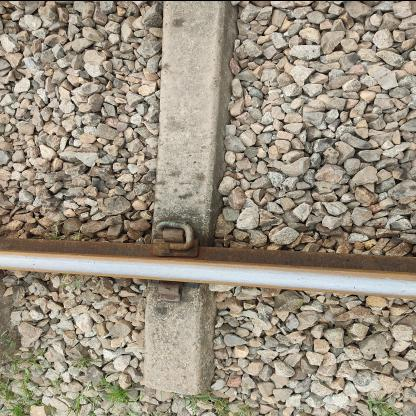Defective 1: (144, 273, 196, 310)
Non Defective 1: (147, 205, 207, 256)
